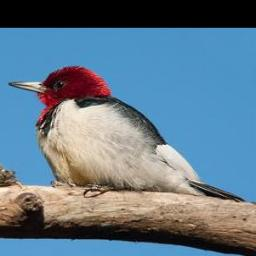Woodpecker: (7, 65, 246, 201)
